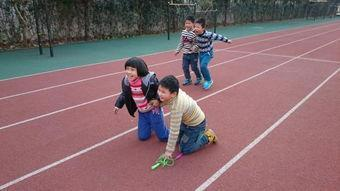Fall-Detected: (109, 50, 167, 144)
